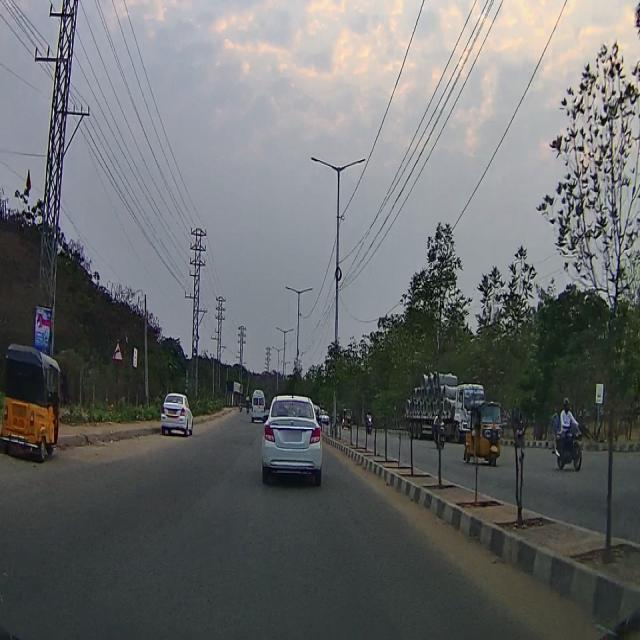right-hand-curve: (110, 338, 123, 362)
